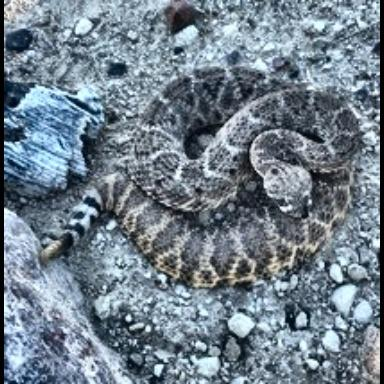snake: (106, 69, 360, 287)
